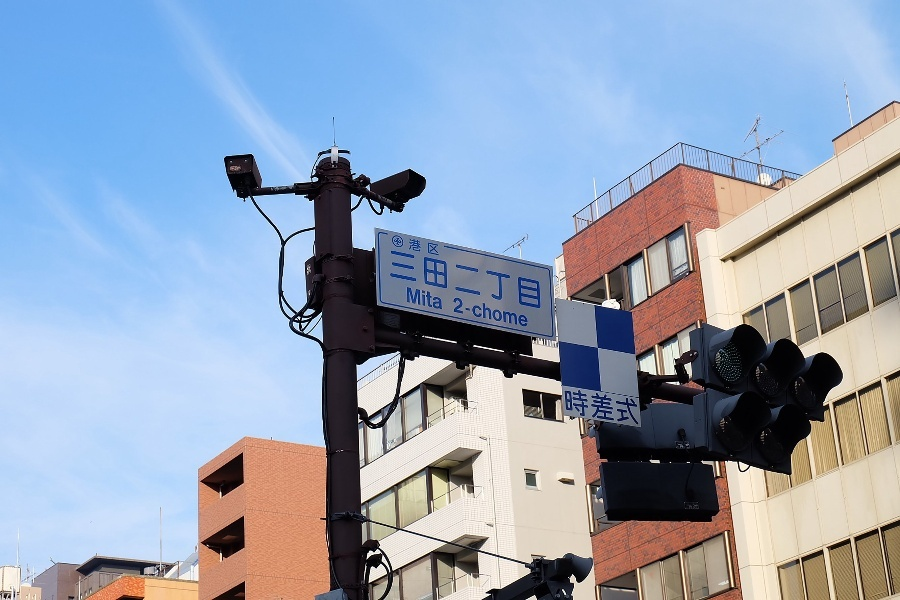text: (401, 251, 416, 309), (417, 251, 432, 309), (433, 251, 448, 309), (449, 251, 464, 309), (465, 251, 480, 309), (481, 251, 496, 309), (497, 251, 512, 309), (513, 251, 528, 309), (529, 251, 541, 309), (577, 388, 592, 425), (593, 388, 608, 425), (609, 388, 624, 425), (391, 251, 400, 309), (625, 388, 639, 425), (465, 296, 480, 328), (481, 296, 496, 328), (497, 296, 512, 328), (513, 296, 528, 328), (565, 388, 576, 425), (417, 288, 432, 310), (454, 296, 464, 328), (417, 239, 432, 256), (433, 288, 443, 310), (407, 288, 416, 310), (410, 239, 416, 256), (433, 239, 439, 256)
